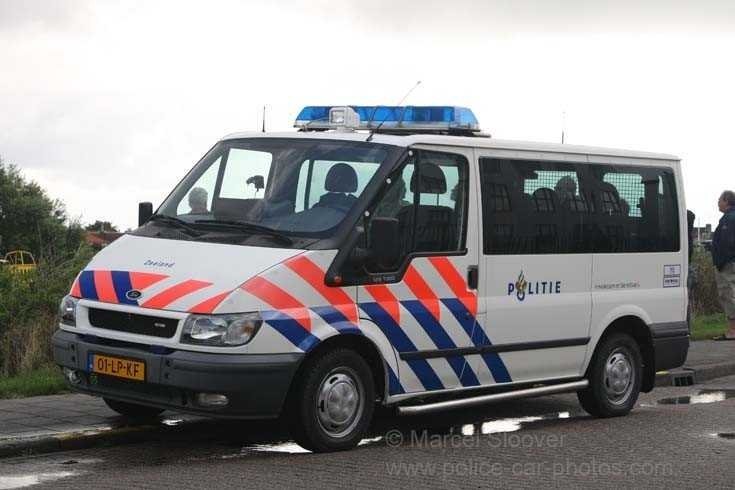Ambulance: (52, 98, 697, 434)
